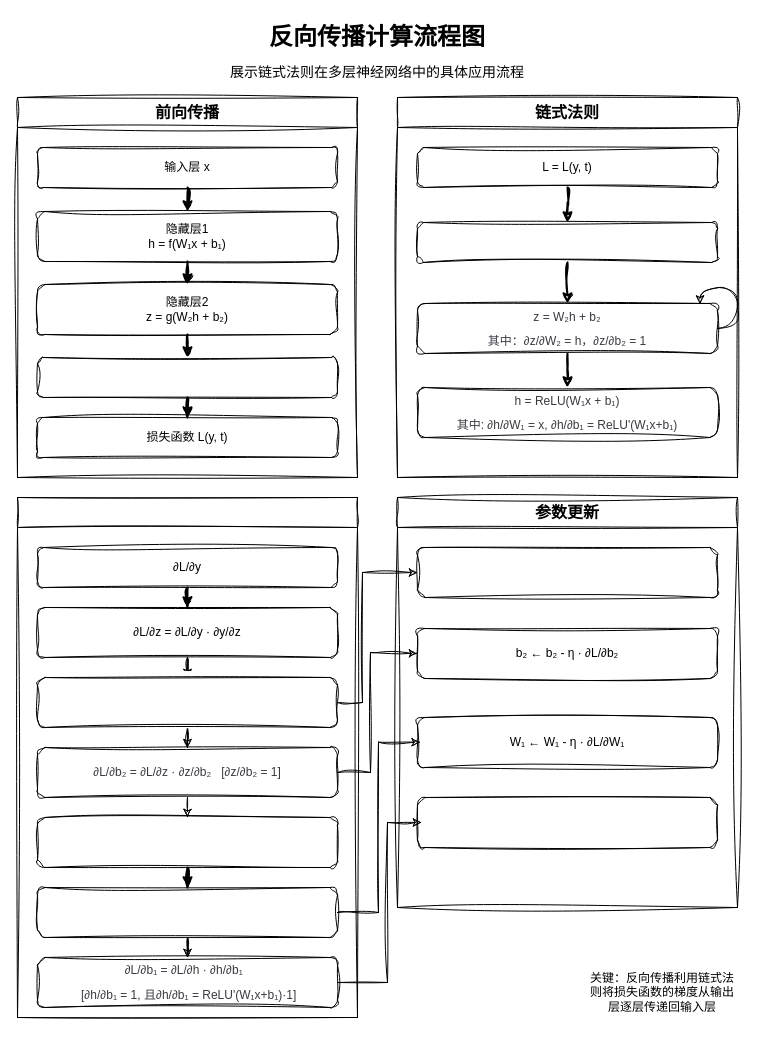
Image size: 757x1048. Some labels were removed from this diagram. Here are the shapes that lost their labels. From the top down, the box of each, then its label:
(416, 222, 718, 262): y = softmax(z)
(36, 356, 338, 398): 输出层 y = h(z)
(416, 546, 718, 598): W₂ ← W₂ - η · ∂L/∂W₂
(36, 676, 338, 728): ∂L/∂W₂ = ∂L/∂z · ∂z/∂W₂ [∂z/∂W₂ = h]
(16, 496, 358, 1018): 反向传播
(36, 816, 338, 868): ∂L/∂h = ∂L/∂z · ∂z/∂h [z = W₂h + b₂, ∂z/∂h = W₂]
(416, 796, 718, 848): b₁ ← b₁ - η · ∂L/∂b₁
(36, 886, 338, 938): ∂L/∂W₁ = ∂L/∂h · ∂h/∂W₁ [∂h/∂W₁ = x]
